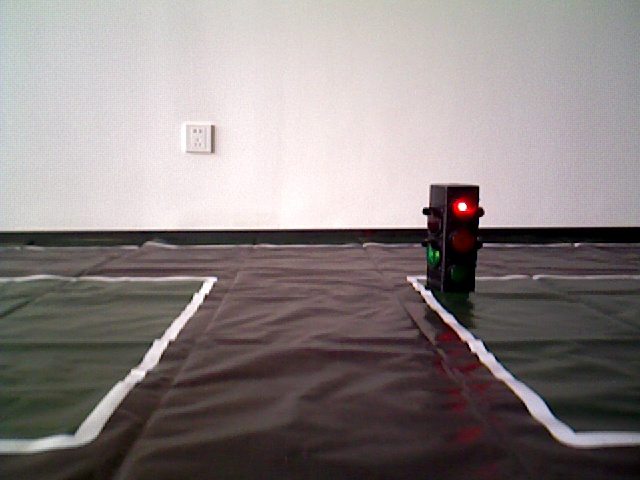red: (425, 188, 479, 293)
